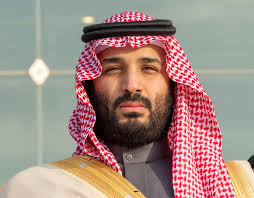middle_eastern_male: (91, 35, 177, 140)
